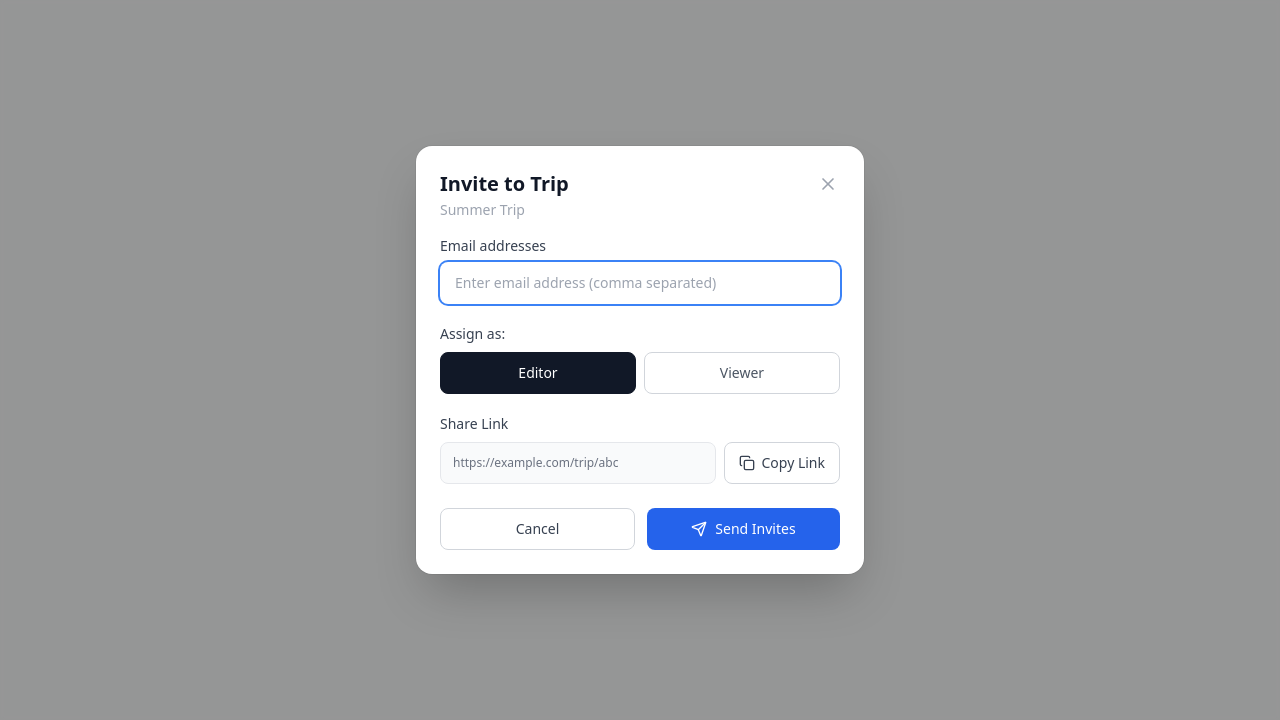
Test: InviteModal › handleSend › shows error for invalid emails with singular or plural wording
Type "bad" into the field labelled "Email addresses".
click(640, 283); type("bad")  # box [440,262,840,304]
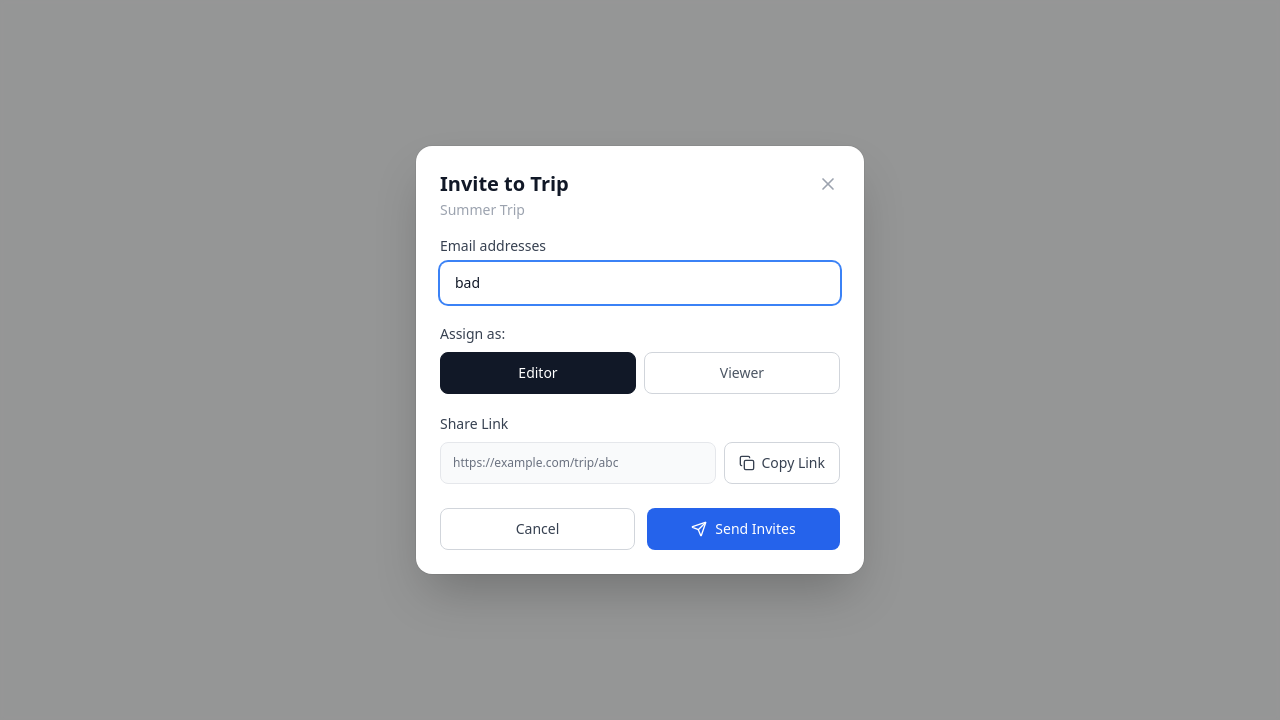
Click the button "Send Invites".
click(744, 529)  # box [647,508,840,550]
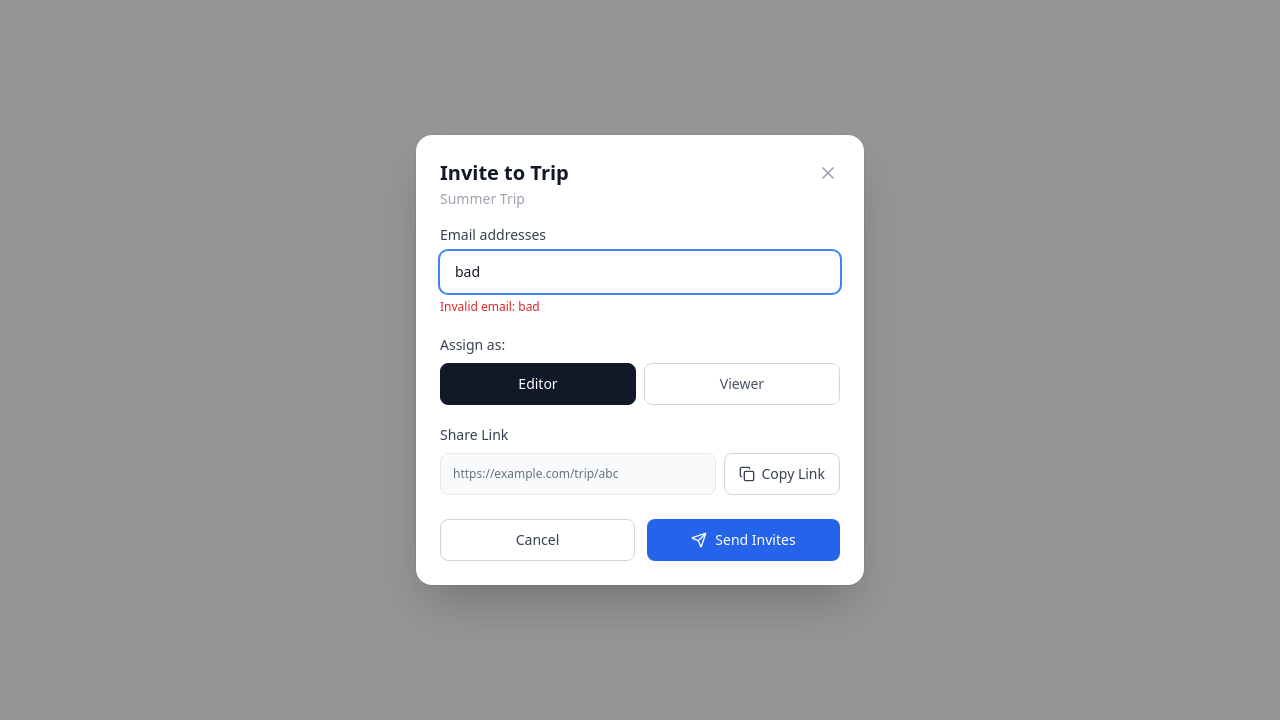
Expected: the message reads "Invalid email: bad", [440,298,540,315]
Replace the text in the field labelled "Email addresses" with "a@b.com, not-an-email, also-bad" at [640, 272], box [440,251,840,293]
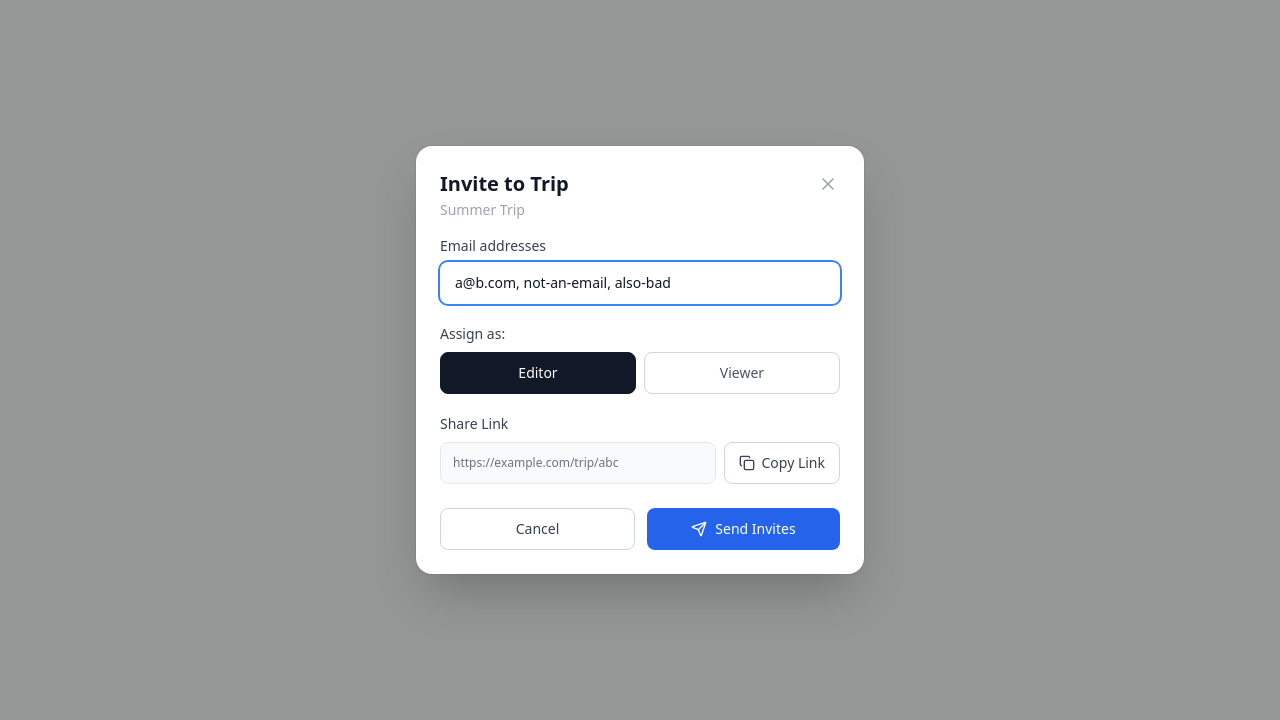
Click the button "Send Invites".
click(744, 529)  # box [647,508,840,550]
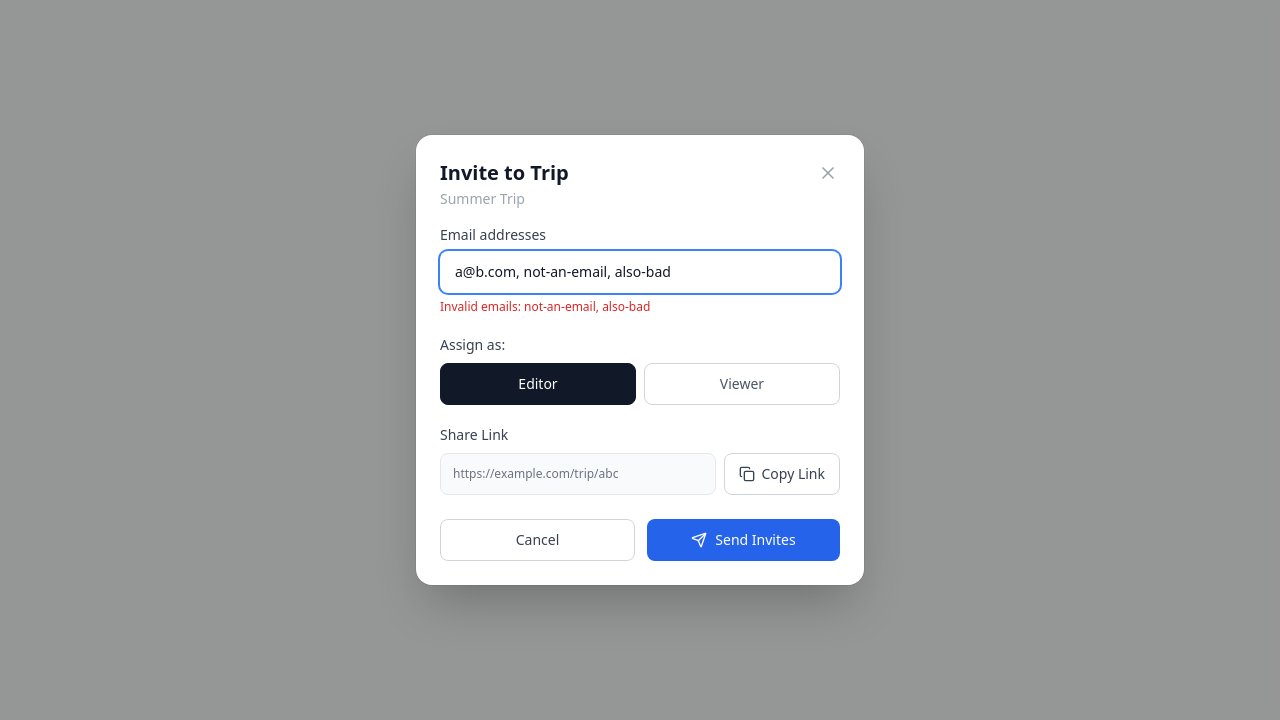
Expected: the message reads "Invalid emails: not-an-email, also-bad", [440,298,650,315]
